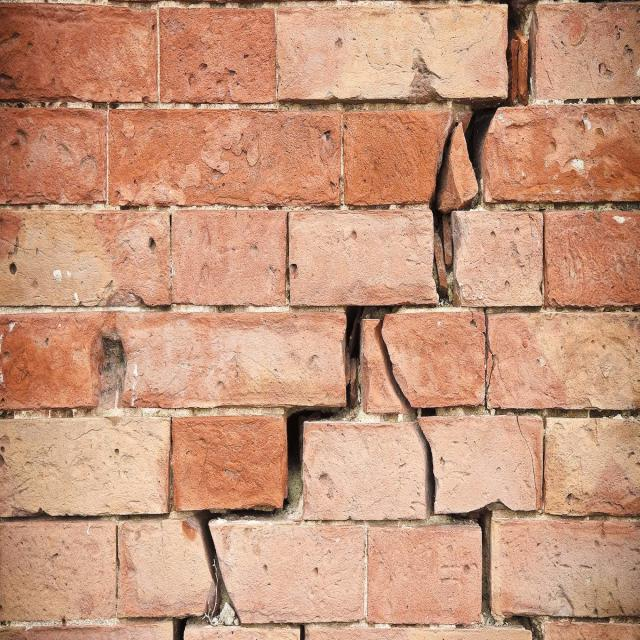Crack: (171, 0, 531, 639), (378, 312, 538, 640)
